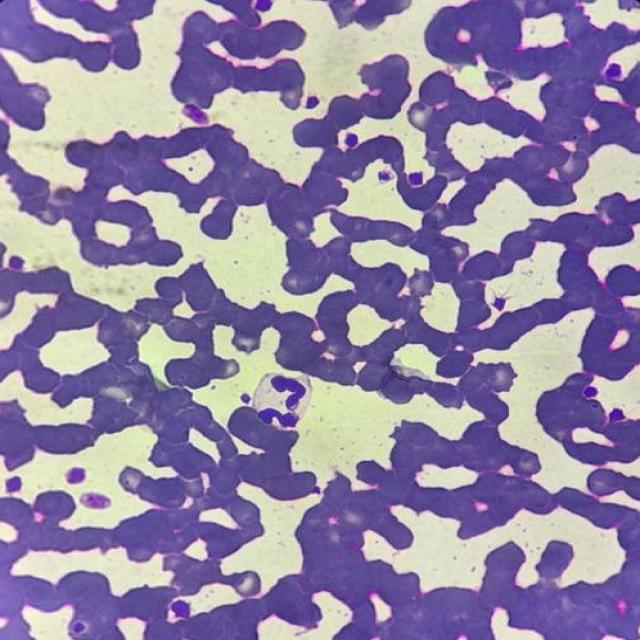Neutrofilo: (252, 370, 318, 436)
